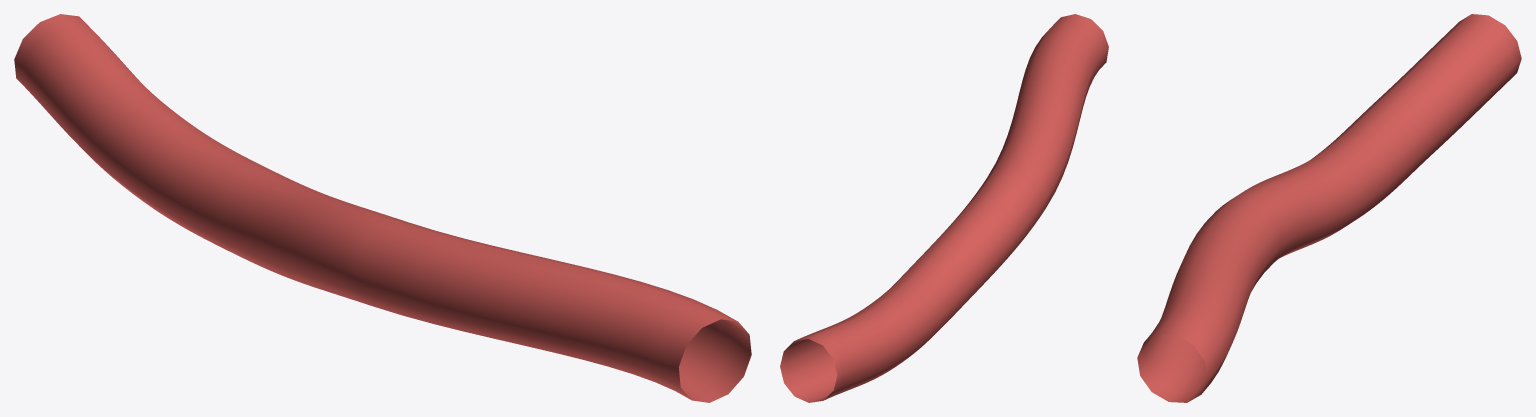
3 views of the same model, side by side, from view 1: azimuth 30°, elevation 25°; view 2: azimuth 150°, elevation 25°; view 3: azimuth 330°, elevation 25° (orthographic). The views are drawn at different scales.
Visible parts, largest first — view 1: 左颈总动脉; view 2: 左颈总动脉; view 3: 左颈总动脉.
Boxes of the visible parts, x1,y1,x2,y2 form: 左颈总动脉: (14,14,751,402); 左颈总动脉: (780,14,1108,402); 左颈总动脉: (1137,14,1521,402).
Bounding box in the file's own units: 0.0336 × 0.0207 × 0.1346.
